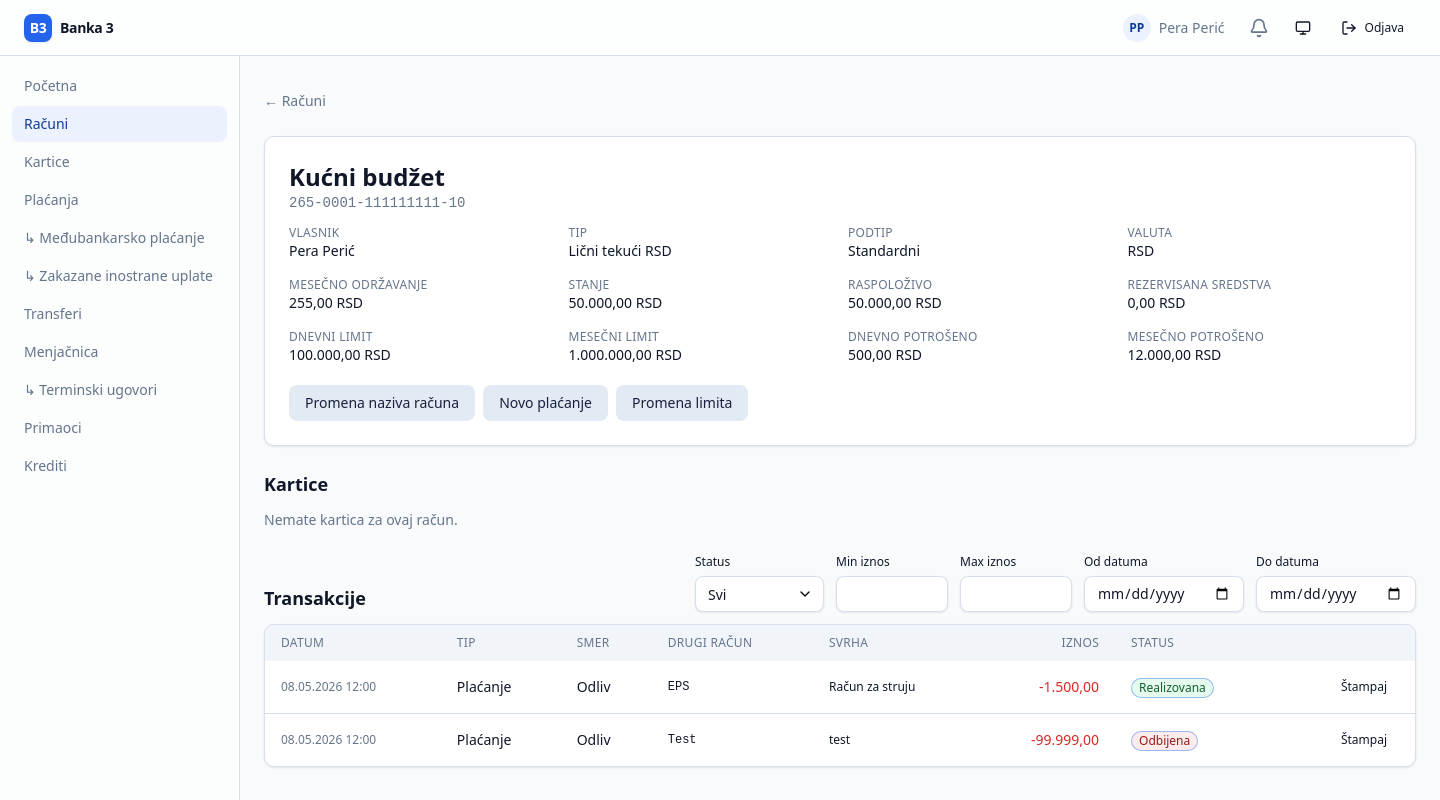
Test: Celina 2 — detalji računa (klijent) › filtriranje transakcija po statusu skriva odbijene
Expected: the text "Račun za struju" is shown, [813,661,977,714]
Expected: the text "test" is shown, [813,714,977,766]
Select "Realizovano" in the dropdown at (760, 594), box [695,576,824,612]
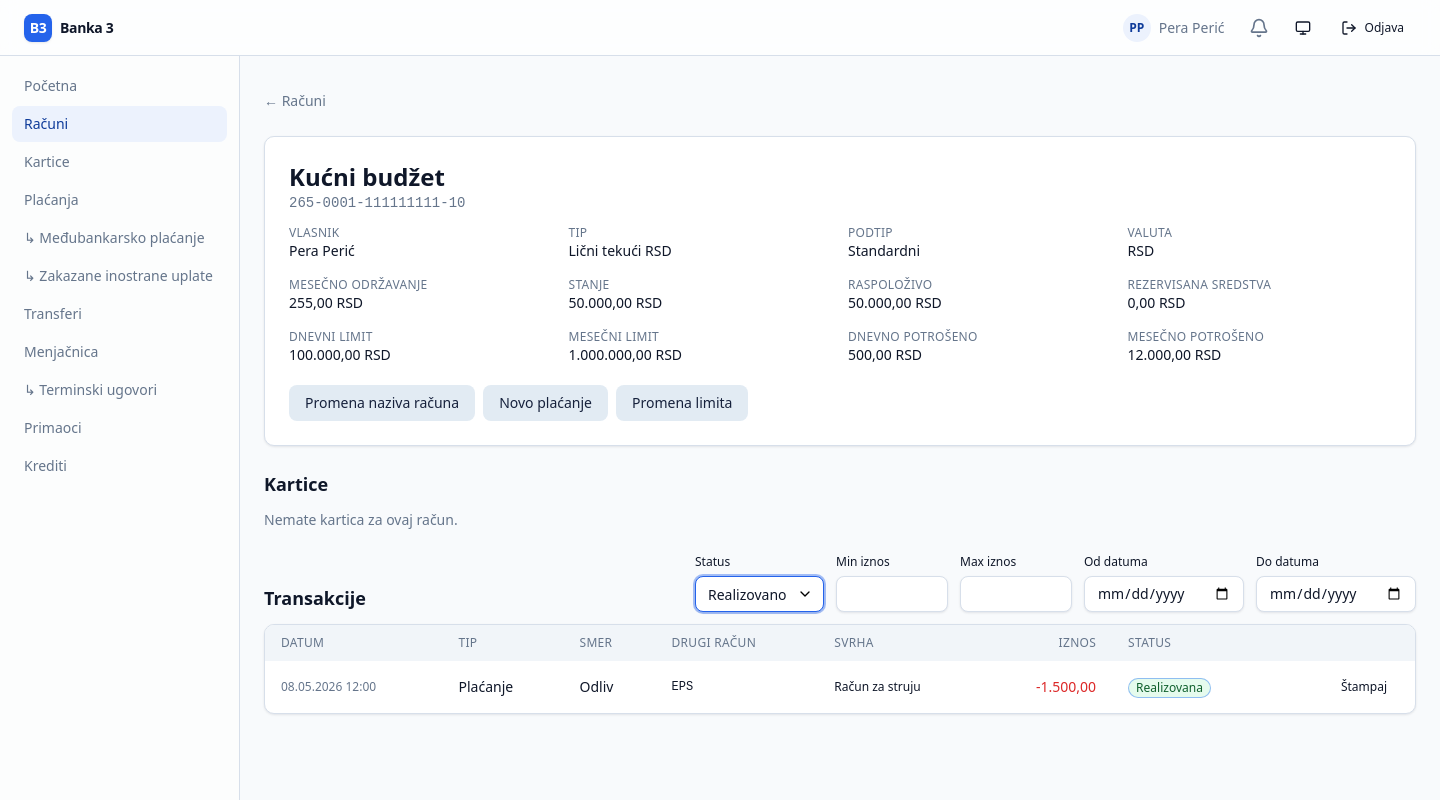
Expected: the text "Račun za struju" is shown, [818,661,984,713]
Result: the text "Test" is gone
